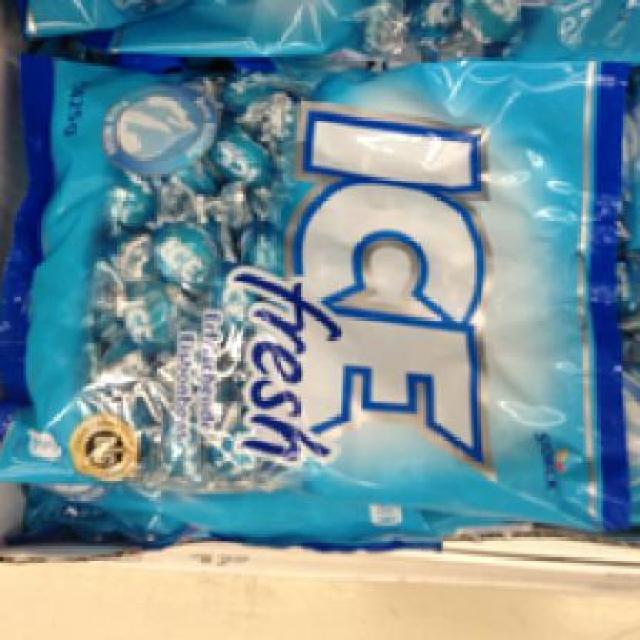Candy: (14, 49, 614, 528)
